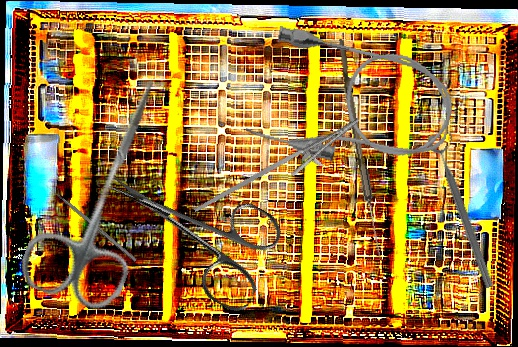Cannula: (243, 22, 462, 184)
Fixation Ring: (425, 128, 507, 291)
Iris Scissors: (14, 60, 196, 318), (84, 138, 292, 317)
Needle Holder: (193, 99, 369, 243)
Pusher: (42, 181, 138, 263)
Surgical Spoon: (333, 38, 386, 260)
